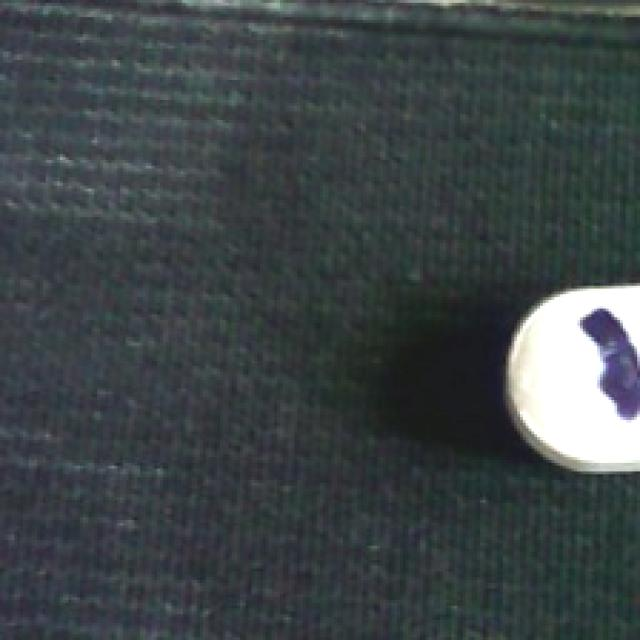defected: (494, 269, 640, 478)
